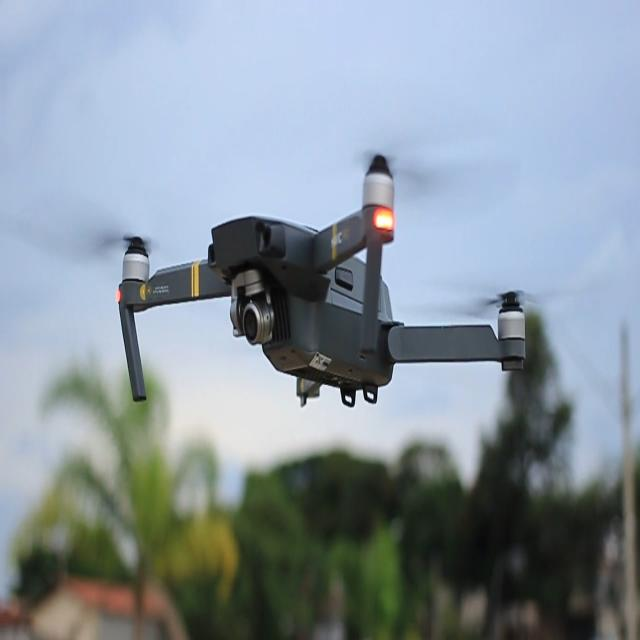Drone: (111, 153, 520, 406)
